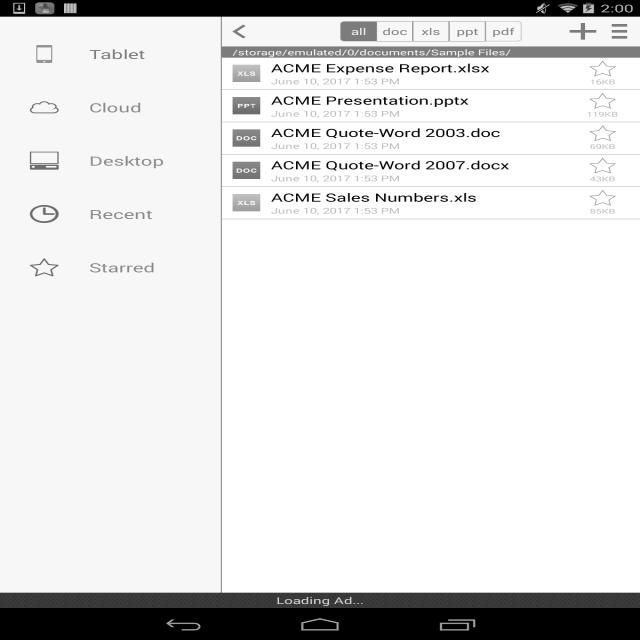CheckBox: (589, 60, 616, 77), (589, 125, 616, 142), (589, 157, 616, 174), (589, 93, 616, 109), (589, 190, 616, 206)
ImageButton: (222, 17, 269, 46), (601, 16, 640, 46), (563, 17, 602, 46)
ImageView: (232, 129, 271, 147), (232, 65, 271, 82), (232, 97, 271, 114), (232, 162, 271, 179), (232, 194, 271, 211)
RadioButton: (8, 27, 213, 81), (8, 187, 213, 241), (8, 81, 213, 134), (8, 134, 213, 187), (8, 241, 213, 294), (340, 22, 377, 42), (376, 22, 413, 42), (485, 22, 522, 42), (413, 22, 449, 42), (449, 22, 485, 42)
TextView: (222, 46, 640, 58), (271, 157, 509, 173), (271, 60, 490, 76), (271, 125, 500, 140), (271, 190, 477, 205), (271, 93, 469, 108), (271, 140, 400, 152), (271, 172, 400, 184), (271, 108, 400, 119), (271, 205, 400, 216), (271, 76, 400, 86), (276, 594, 364, 607), (587, 109, 618, 119), (590, 206, 615, 216), (590, 77, 615, 86), (590, 142, 615, 151), (590, 174, 615, 183)
